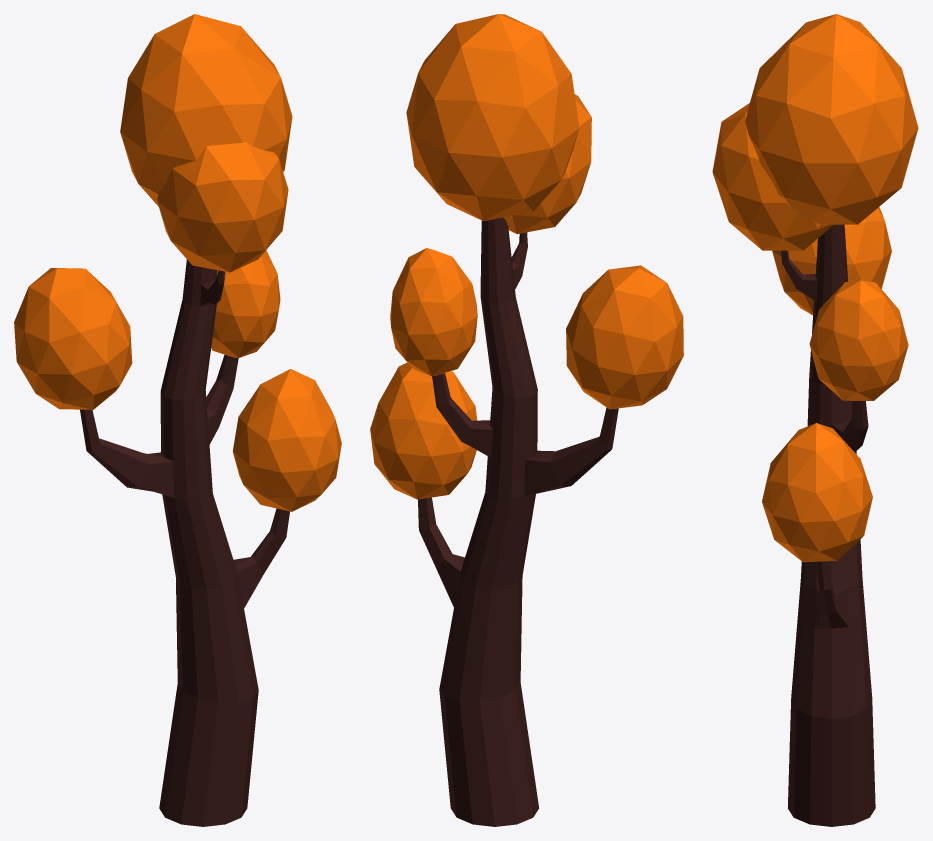
File: Tree6.fbx
3 renders of one model, left to right at view 1: azimuth 30°, elevation 25°; view 2: azimuth 150°, elevation 25°; view 3: azimuth 270°, elevation 25°, orthographic.
Parts seen in each view (by area): view 1: Tree6; view 2: Tree6; view 3: Tree6.
Part boxes in pixels (x1=…): Tree6: x1=14, y1=14, x2=341, y2=826; Tree6: x1=370, y1=14, x2=683, y2=826; Tree6: x1=712, y1=14, x2=918, y2=826.
Bounding box in the file's own units: 794 × 1989 × 469.
